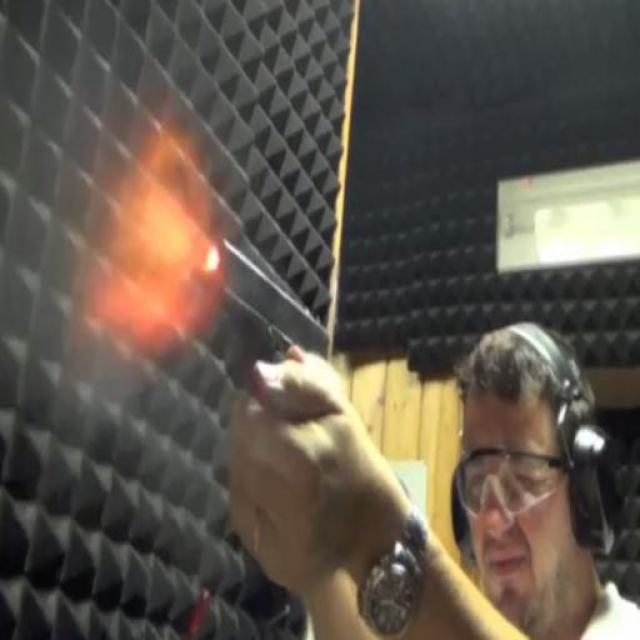pistol: (185, 222, 332, 411)
